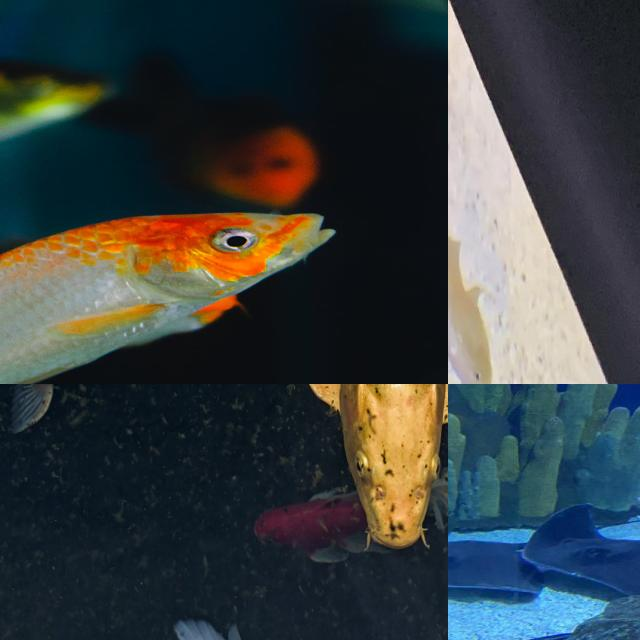fish: (0, 0, 448, 384), (0, 384, 448, 640), (448, 232, 498, 384)
